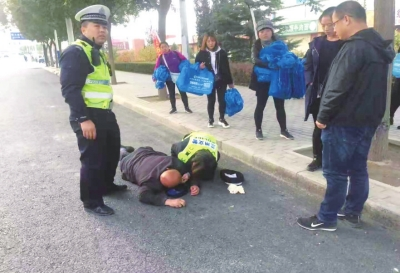fall: (108, 132, 193, 208)
